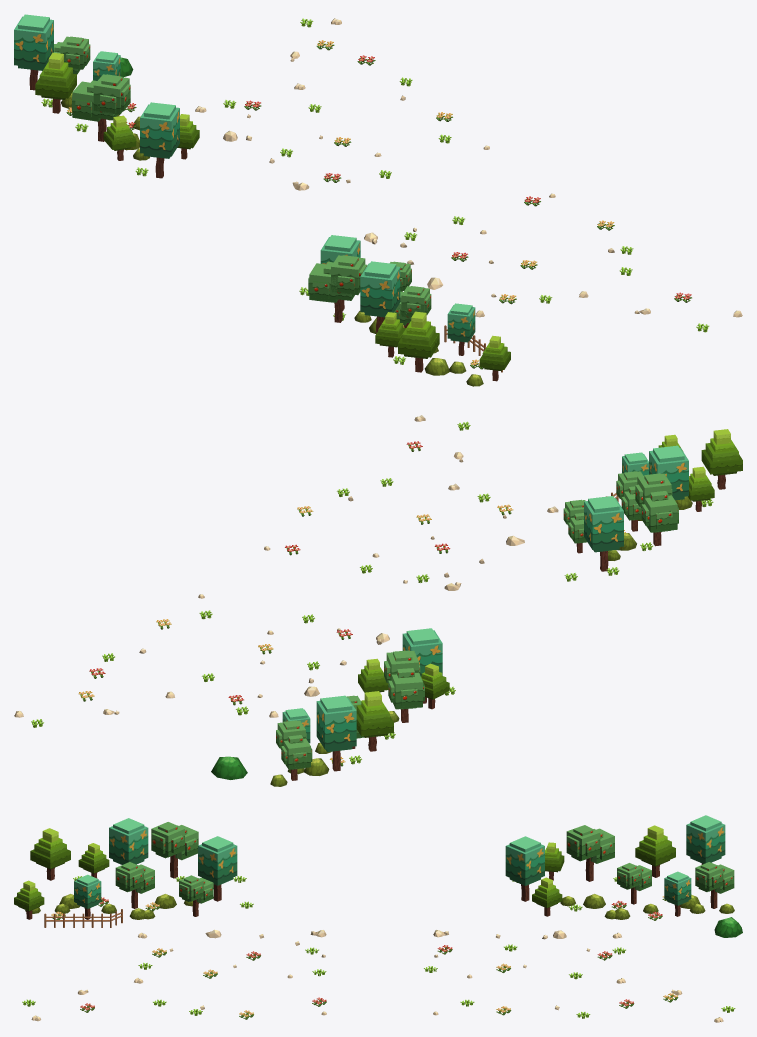
3 views of the same model, one above another, from view 1: azimuth 30°, elevation 25°; view 2: azimuth 150°, elevation 25°; view 3: azimuth 270°, elevation 25° (orthographic). The views are drawn at different scales.
Parts seen in each view (by area): view 1: Tree24, Tree9, Tree18, Tree19, Tree12, Tree26, Tree11, Tree14, Tree17, Tree22, Tree25, Tree10 (+4 smaller); view 2: Tree19, Tree9, Tree10, Tree24, Tree11, Tree22, Tree12, Tree26, Tree18, Tree17, Tree14, Tree15 (+3 smaller); view 3: Tree18, Tree10, Tree14 (×2), Tree24, Tree19, Tree9, Tree12, Tree26, Tree11, Tree22, Tree17, Tree21 (+7 smaller).
Part boxes in pixels (box(x1,y1,x2,y2)): Tree24: box(72, 74, 130, 141); Tree9: box(308, 255, 367, 322); Tree18: box(140, 102, 179, 178); Tree19: box(14, 14, 53, 90); Tree12: box(360, 261, 400, 333); Tree26: box(35, 52, 76, 113); Tree11: box(398, 311, 439, 372); Tree14: box(447, 303, 475, 355); Tree17: box(384, 286, 431, 327); Tree22: box(54, 36, 90, 74); Tree25: box(103, 115, 136, 160); Tree10: box(320, 235, 360, 310); Tree19: box(316, 695, 356, 771); Tree9: box(635, 473, 678, 546); Tree10: box(584, 496, 623, 571); Tree24: box(384, 650, 424, 722); Tree11: box(701, 429, 742, 489); Tree22: box(276, 720, 312, 780); Tree12: box(649, 445, 688, 500); Tree26: box(356, 691, 393, 751); Tree18: box(402, 628, 442, 703); Tree17: box(616, 471, 643, 531); Tree14: box(563, 499, 587, 553); Tree15: box(688, 466, 714, 511); Tree18: box(505, 836, 544, 901); Tree10: box(198, 836, 237, 901); Tree14 (×2): box(74, 874, 213, 919); Tree24: box(566, 825, 614, 881); Tree19: box(686, 815, 725, 864); Tree9: box(151, 822, 198, 878); Tree12: box(109, 818, 148, 864); Tree26: box(635, 825, 675, 877); Tree11: box(30, 828, 70, 880); Tree22: box(695, 862, 734, 908); Tree17: box(115, 862, 154, 908); Tree21: box(617, 863, 651, 904).
Bounding box in the file's own units: 3729 × 879 × 7964.
